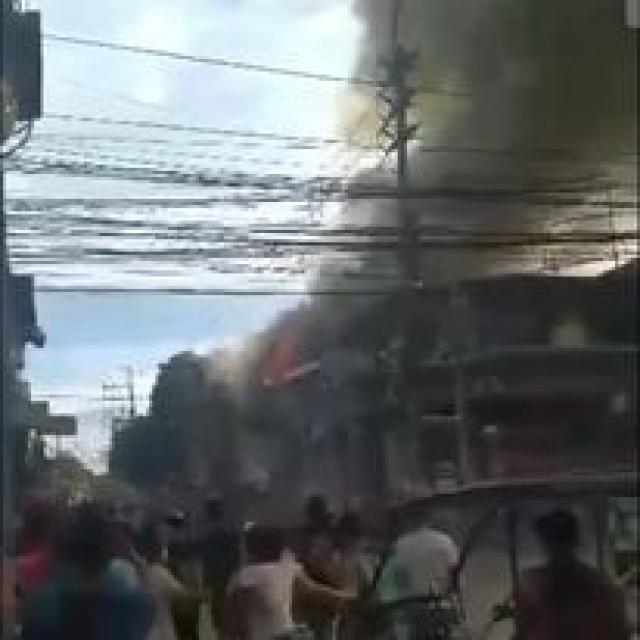Fire: (262, 335, 290, 388)
Smoke: (267, 0, 640, 348), (122, 330, 335, 508)
